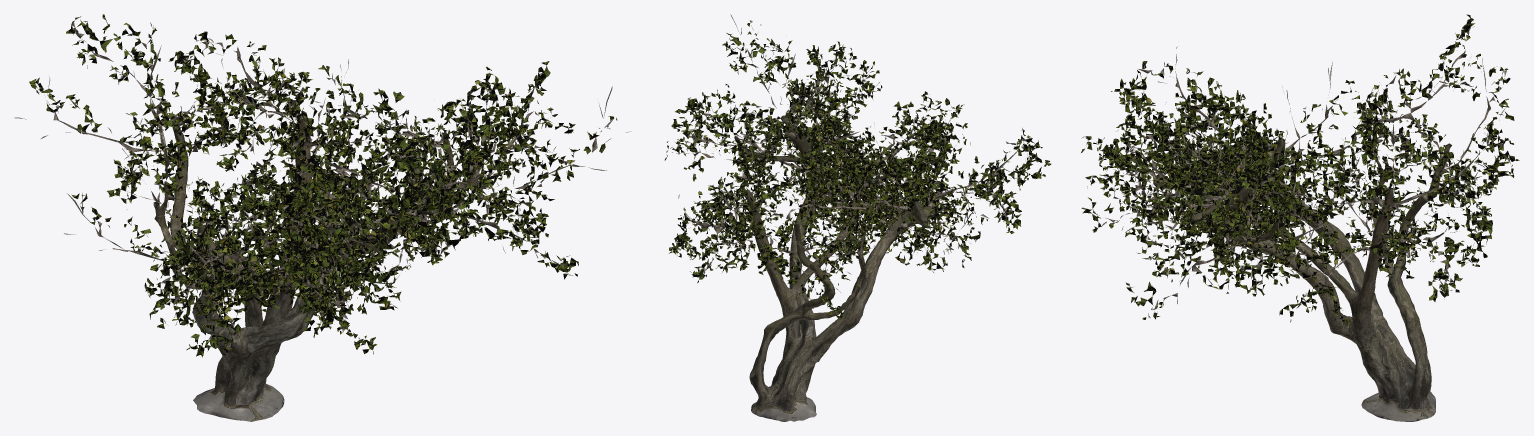
File: island_tree_02_1k_dec.gltf
3 renders of one model, left to right at view 1: azimuth 30°, elevation 25°; view 2: azimuth 150°, elevation 25°; view 3: azimuth 270°, elevation 25°, orthographic. The views are drawn at different scales.
Parts seen in each view (by area): view 1: island_tree_02_LOD0; view 2: island_tree_02_LOD0; view 3: island_tree_02_LOD0.
Part boxes in pixels (left/top/right/bottom): island_tree_02_LOD0: left=14, top=14, right=631, bottom=421; island_tree_02_LOD0: left=664, top=14, right=1051, bottom=421; island_tree_02_LOD0: left=1081, top=14, right=1519, bottom=421.
Size of the model in its own units: 4.1 by 3.4 by 4.
3 materials, 3 textured.
